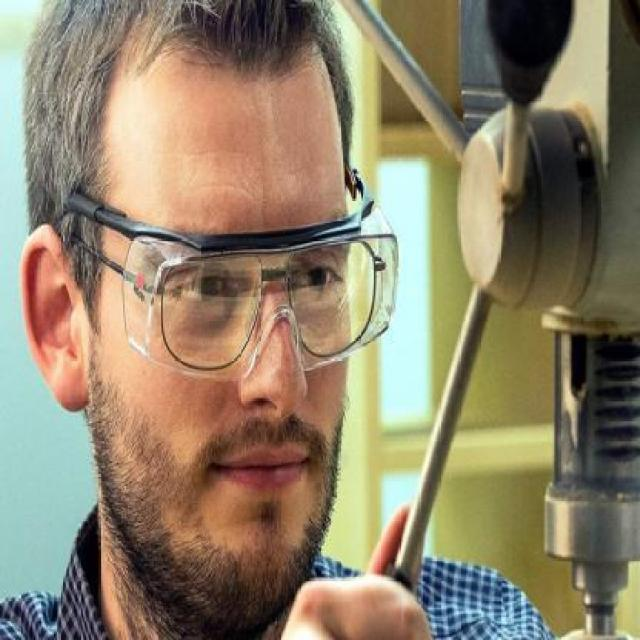Goggles: (47, 163, 416, 386)
